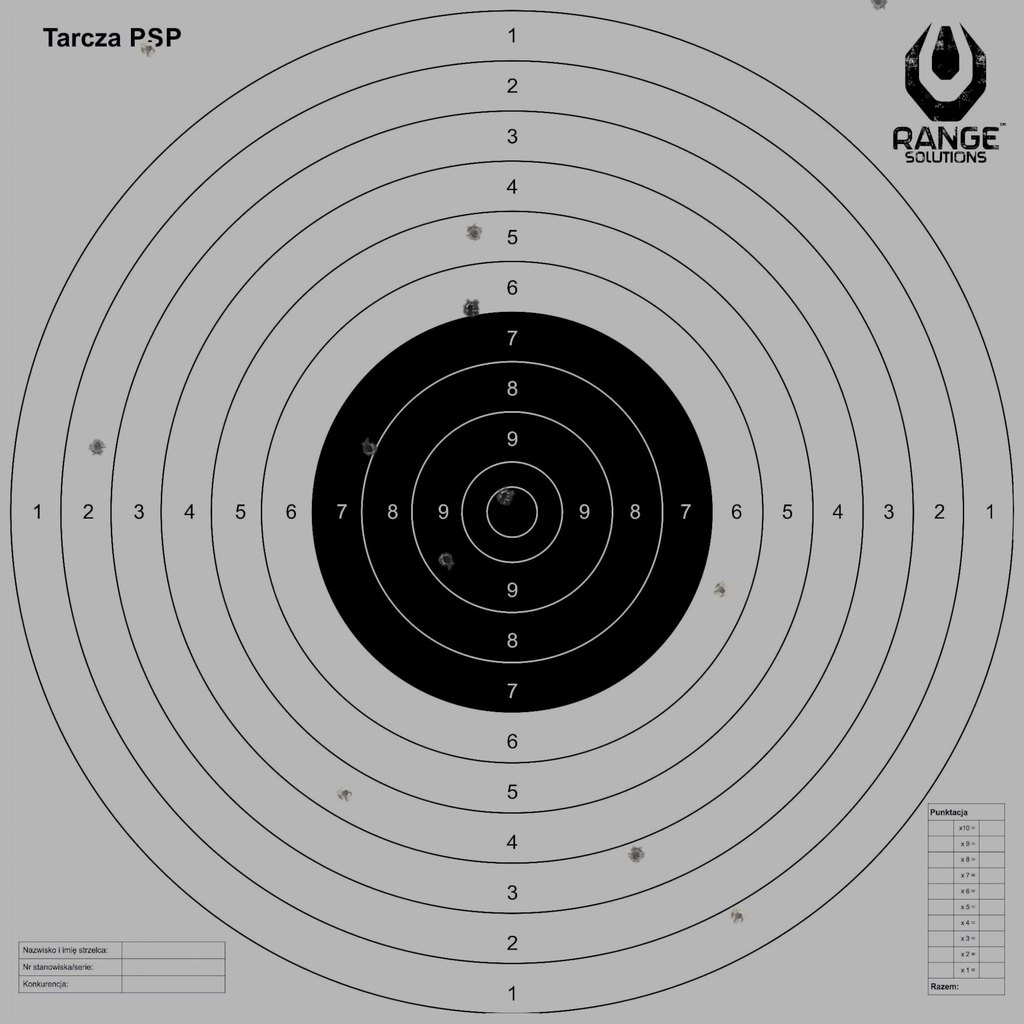0 punktow: (140, 40, 158, 58)
1 punkt: (729, 907, 748, 925)
10 punktow: (496, 486, 514, 505)
2 punkty: (88, 437, 107, 456)
3 punkty: (627, 846, 645, 864)
4 punkty: (336, 784, 355, 803)
5 punktow: (465, 224, 483, 243)
6 punktow: (712, 581, 731, 599)
7 punktow: (461, 299, 480, 317)
8 punktow: (360, 439, 378, 457)
9 punktow: (437, 551, 456, 569)
